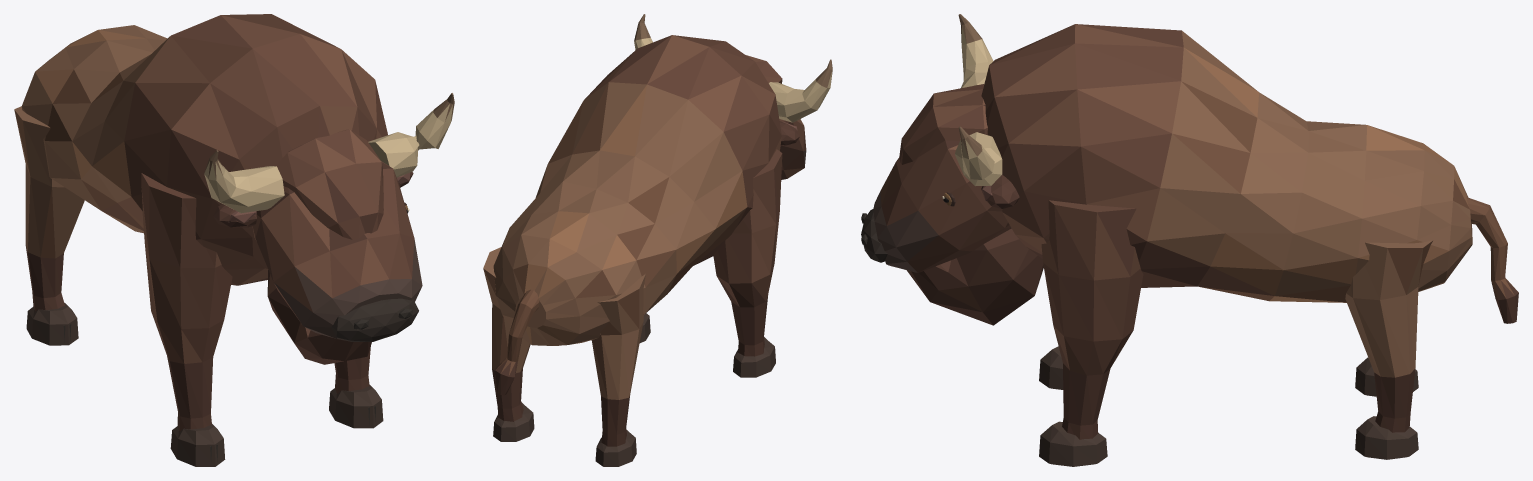
The model's file is MOB_Bison.glb.
The picture shows the model from 3 angles, left to right: view 1: azimuth 30°, elevation 25°; view 2: azimuth 150°, elevation 25°; view 3: azimuth 270°, elevation 25°; orthographic projection. The views are drawn at different scales.
Visible parts, largest first — view 1: SM_MOB_Bison_Body, SM_MOB_Bison_Head, SM_MOB_Bison_FrontLeg_R, SM_MOB_Bison_Forelock, SM_MOB_Bison_HindLeg_R, SM_MOB_Bison_Horn_R, SM_MOB_Bison_Horn_L, SM_MOB_Bison_Beard, SM_MOB_Bison_Nose, SM_MOB_Bison_Hoof_Front_R, SM_MOB_Bison_Hoof_Front_L, SM_MOB_Bison_Hoof_Hind_R (+2 smaller); view 2: SM_MOB_Bison_Body, SM_MOB_Bison_FrontLeg_R, SM_MOB_Bison_HindLeg_R, SM_MOB_Bison_HindLeg_L, SM_MOB_Bison_Horn_R, SM_MOB_Bison_Tail, SM_MOB_Bison_Hoof_Front_R, SM_MOB_Bison_Head, SM_MOB_Bison_Hoof_Hind_L, SM_MOB_Bison_Hoof_Hind_R, SM_MOB_Bison_Forelock, SM_MOB_Bison_Horn_L; view 3: SM_MOB_Bison_Body, SM_MOB_Bison_FrontLeg_L, SM_MOB_Bison_Head, SM_MOB_Bison_HindLeg_L, SM_MOB_Bison_Beard, SM_MOB_Bison_Forelock, SM_MOB_Bison_Tail, SM_MOB_Bison_Hoof_Front_L, SM_MOB_Bison_Horn_L, SM_MOB_Bison_Hoof_Hind_L, SM_MOB_Bison_Horn_R, SM_MOB_Bison_Hoof_Front_R (+3 smaller).
Boxes of the visible parts, box(x1,y1,x2,y2) form: SM_MOB_Bison_Body: box(21, 14, 387, 285); SM_MOB_Bison_Head: box(252, 161, 422, 341); SM_MOB_Bison_FrontLeg_R: box(141, 173, 232, 431); SM_MOB_Bison_Forelock: box(275, 129, 383, 239); SM_MOB_Bison_HindLeg_R: box(14, 106, 84, 311); SM_MOB_Bison_Horn_R: box(204, 150, 284, 213); SM_MOB_Bison_Horn_L: box(368, 93, 454, 177); SM_MOB_Bison_Beard: box(267, 270, 371, 364); SM_MOB_Bison_Nose: box(331, 298, 418, 341); SM_MOB_Bison_Hoof_Front_R: box(170, 424, 225, 466); SM_MOB_Bison_Hoof_Front_L: box(329, 384, 383, 428); SM_MOB_Bison_Hoof_Hind_R: box(26, 303, 78, 345); SM_MOB_Bison_Body: box(493, 35, 781, 345); SM_MOB_Bison_FrontLeg_R: box(713, 149, 782, 356); SM_MOB_Bison_HindLeg_R: box(591, 274, 645, 446); SM_MOB_Bison_HindLeg_L: box(483, 247, 530, 421); SM_MOB_Bison_Horn_R: box(769, 59, 832, 122); SM_MOB_Bison_Tail: box(495, 289, 539, 395); SM_MOB_Bison_Hoof_Front_R: box(733, 337, 775, 377); SM_MOB_Bison_Head: box(779, 119, 806, 179); SM_MOB_Bison_Hoof_Hind_L: box(493, 402, 534, 441); SM_MOB_Bison_Hoof_Hind_R: box(595, 430, 636, 466); SM_MOB_Bison_Forelock: box(746, 55, 782, 83); SM_MOB_Bison_Horn_L: box(634, 14, 652, 49); SM_MOB_Bison_Body: box(981, 24, 1472, 302); SM_MOB_Bison_FrontLeg_L: box(1041, 200, 1143, 439); SM_MOB_Bison_Head: box(873, 140, 1011, 272); SM_MOB_Bison_HindLeg_L: box(1345, 240, 1433, 432); SM_MOB_Bison_Beard: box(907, 228, 1043, 325); SM_MOB_Bison_Forelock: box(899, 84, 987, 164); SM_MOB_Bison_Tail: box(1466, 197, 1518, 323); SM_MOB_Bison_Hoof_Front_L: box(1039, 421, 1107, 466); SM_MOB_Bison_Horn_L: box(955, 126, 1002, 186); SM_MOB_Bison_Hoof_Hind_L: box(1355, 416, 1418, 459); SM_MOB_Bison_Horn_R: box(958, 14, 993, 88); SM_MOB_Bison_Hoof_Front_R: box(1039, 346, 1063, 389).
Size of the model in its own units: 1.31 by 2.03 by 3.12.
